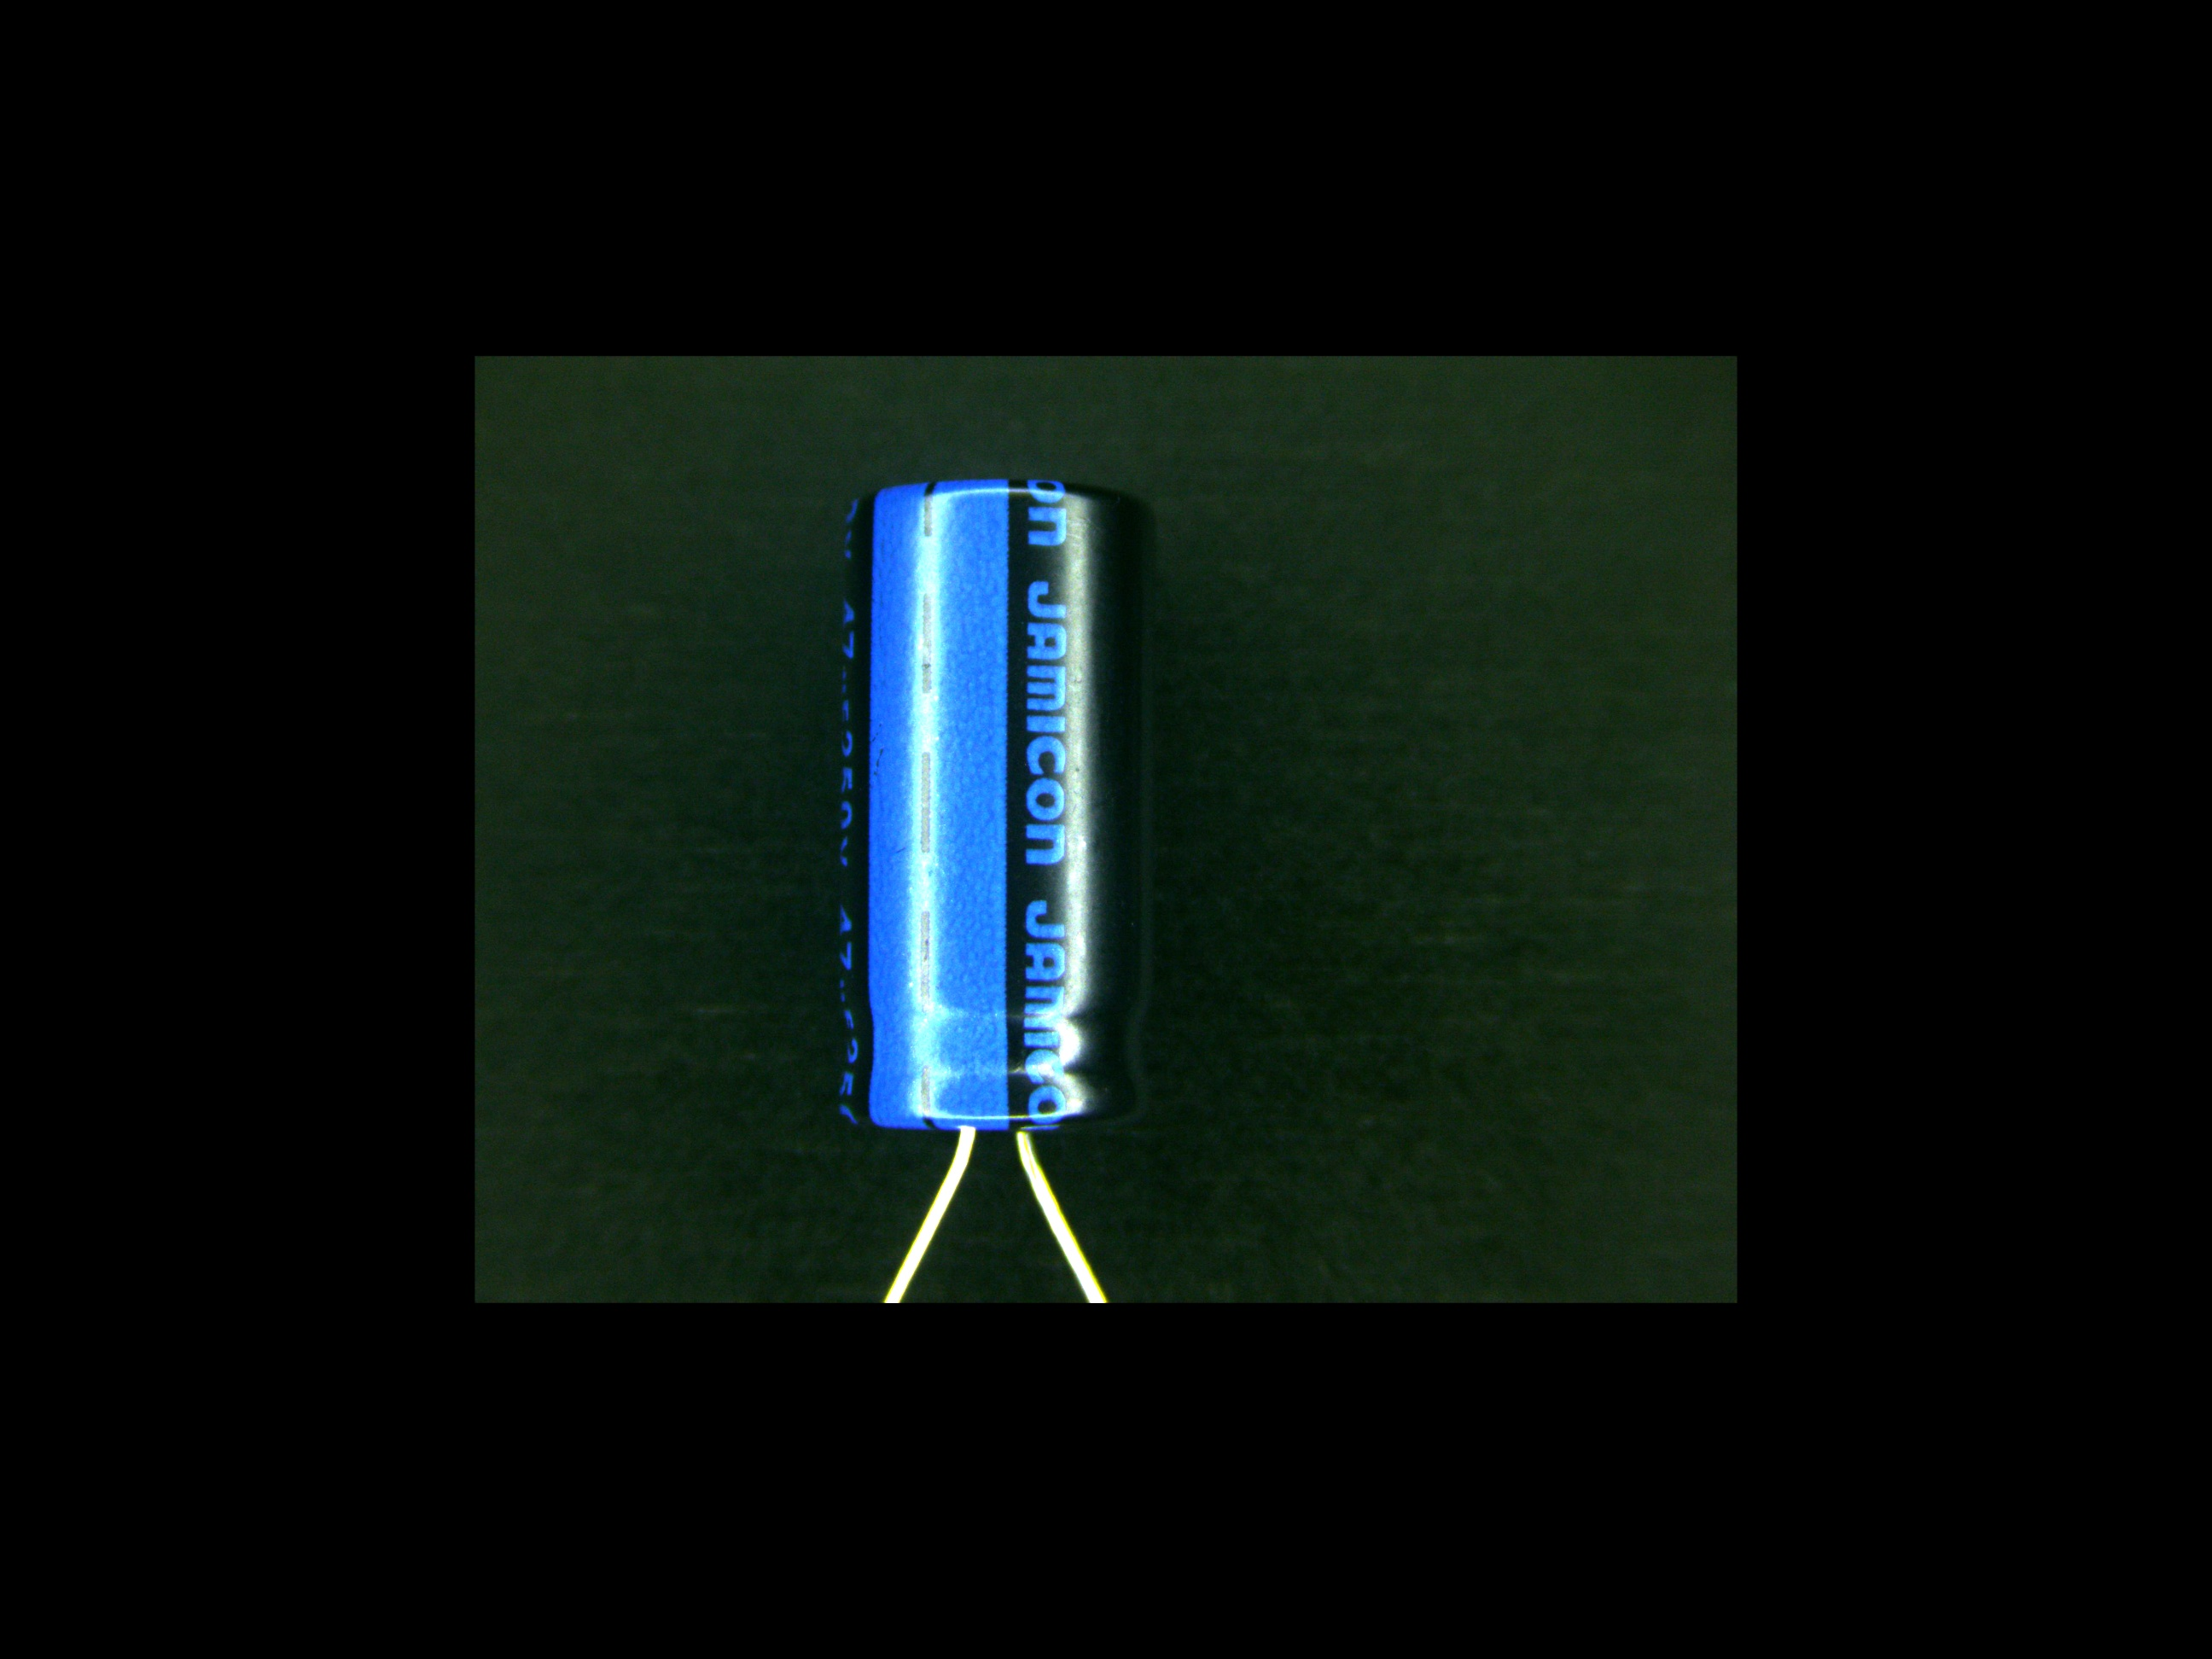c2: (834, 476, 1157, 1199)
